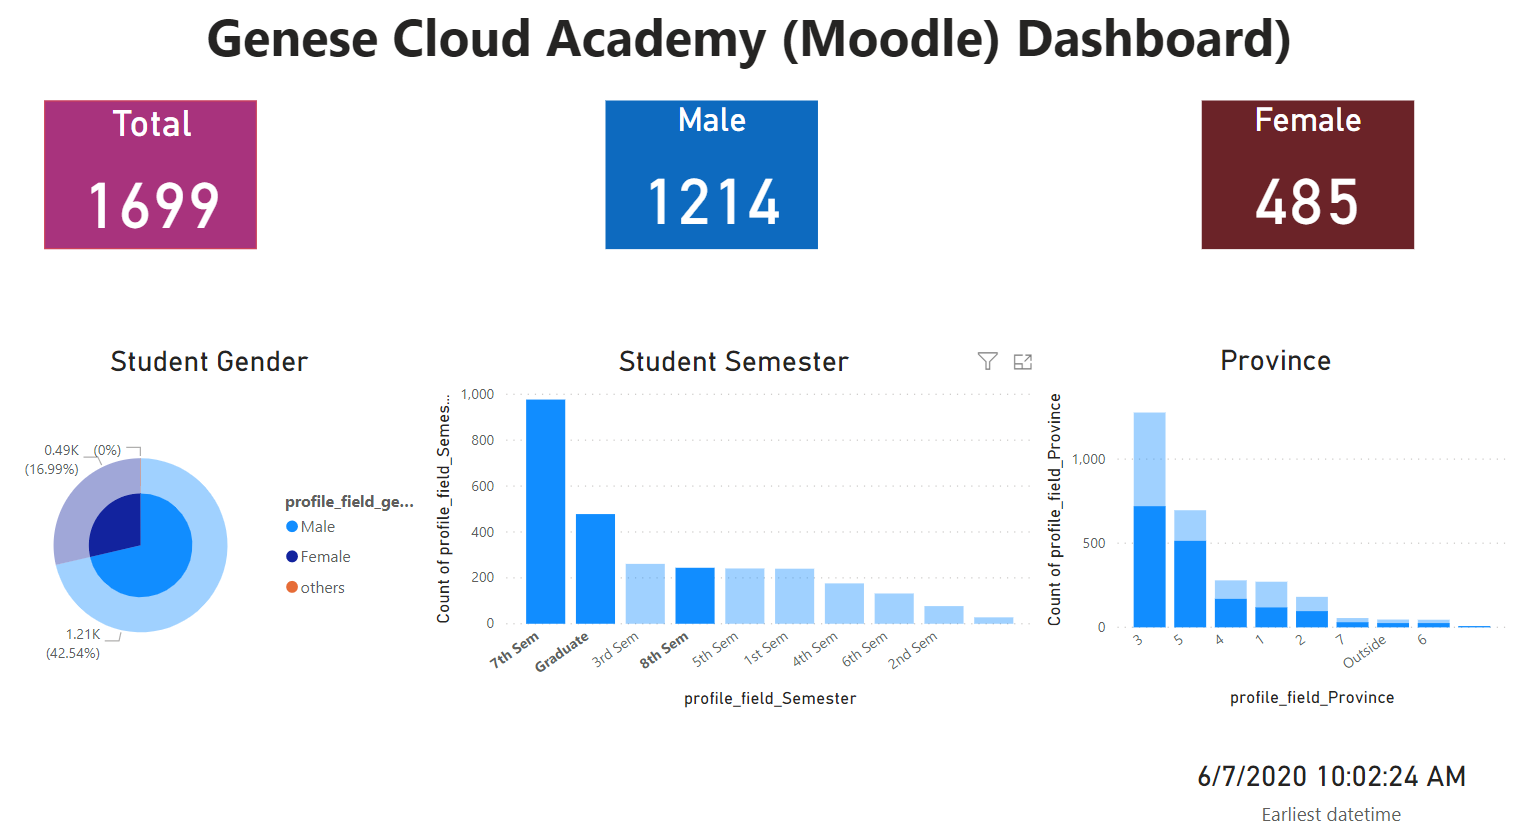

Layout of this report page (visuals, bound fields, positions):
{"tool":"powerbi","page":{"name":"Dashboard","canvas":[1280,720],"ordinal":0},"visuals":[{"type":"pieChart","title":"Student Gender","fields":{"Category":["user_latest.profile_field_gender1"],"Series":["user_latest.profile_field_gender1"],"Y":["CountNonNull(user_latest.profile_field_gender)"]},"box":[2.1,303.2,367.2,310.5],"z":0},{"type":"columnChart","title":"Student Semester","fields":{"Category":["user_latest.profile_field_Semester1"],"Y":["CountNonNull(user_latest.profile_field_Semester)1"]},"box":[369.4,303.2,513.4,310.5],"z":1000},{"type":"columnChart","title":"Province","fields":{"Category":["user_latest.profile_field_Province1"],"Y":["CountNonNull(user_latest.profile_field_Province)1"]},"box":[882.3,302.7,397.4,310.5],"z":2000},{"type":"card","title":"Total","fields":{"Values":["CountNonNull(user_latest.id)"]},"box":[47.1,98.8,178.8,124.4],"z":3000},{"type":"card","title":"Male","fields":{"Values":["CountNonNull(user_latest.profile_field_gender)"]},"box":[518.2,98.8,178.8,124.4],"z":4000},{"type":"card","title":"Female","fields":{"Values":["CountNonNull(user_latest.profile_field_gender)"]},"box":[1019.5,98.8,178.8,124.4],"z":5000},{"type":"textbox","box":[0,10.9,1279.3,72.5],"z":6000},{"type":"card","fields":{"Values":["Min(Kathmandu.datetime)"]},"box":[994.2,641.5,268.2,68.9],"z":7000}]}

Visuals, with their boxes in screenshot pixels (x1, y1, x2, y2), scaled from the page's 1280x720 canvas onto the 1515x831 screenshot:
"Student Gender" pieChart: locate(2, 350, 437, 708)
"Student Semester" columnChart: locate(437, 350, 1045, 708)
"Province" columnChart: locate(1044, 349, 1514, 708)
"Total" card: locate(56, 114, 267, 258)
"Male" card: locate(613, 114, 825, 258)
"Female" card: locate(1207, 114, 1418, 258)
textbox: locate(0, 13, 1514, 96)
card - Min(Kathmandu.datetime): locate(1177, 740, 1494, 820)
